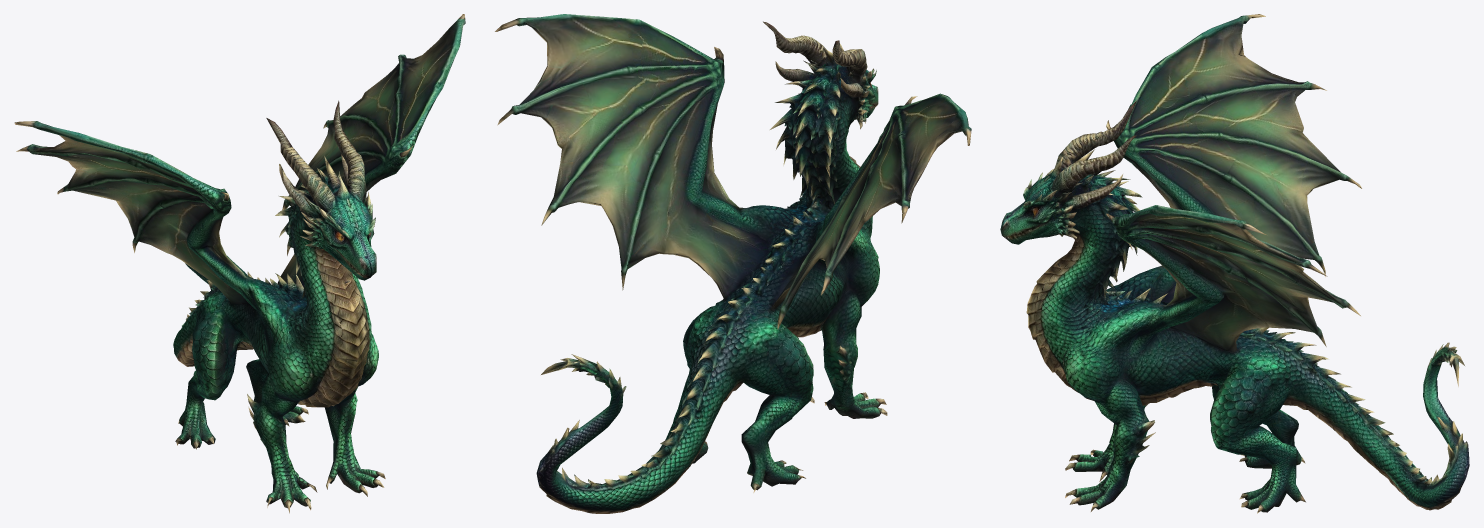
Rendered from mf_tidewyrm.glb.
3 views of the same model, side by side, from view 1: azimuth 30°, elevation 25°; view 2: azimuth 150°, elevation 25°; view 3: azimuth 270°, elevation 25° (orthographic). The views are drawn at different scales.
Visible parts, largest first — view 1: Model; view 2: Model; view 3: Model.
Part boxes in pixels (x1,y1,x2,y2): Model: (14, 14, 465, 513); Model: (495, 14, 971, 513); Model: (1000, 14, 1469, 513).
Bounding box in the file's own units: 1.9 × 1.49 × 1.72.
Materials: 1 (1 with a texture image).
